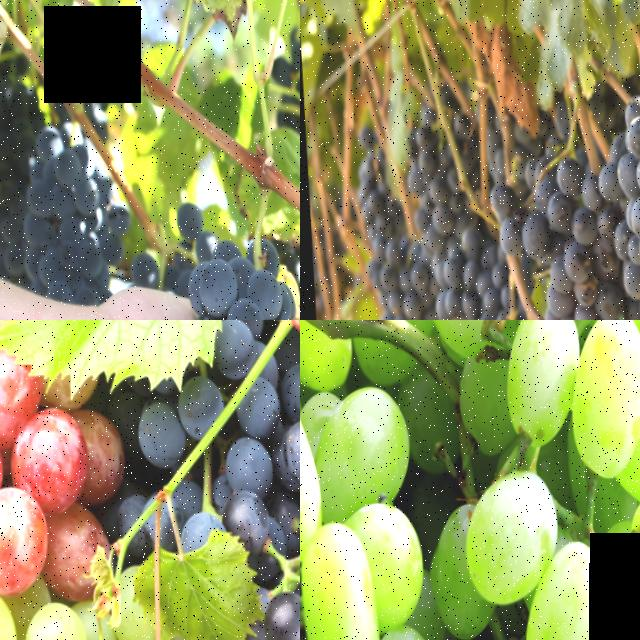grapes: (416, 320, 640, 640), (300, 357, 425, 640), (0, 359, 91, 588), (405, 122, 501, 320), (9, 123, 114, 303), (513, 160, 623, 320), (165, 238, 300, 320), (356, 235, 432, 320), (603, 98, 640, 214)
